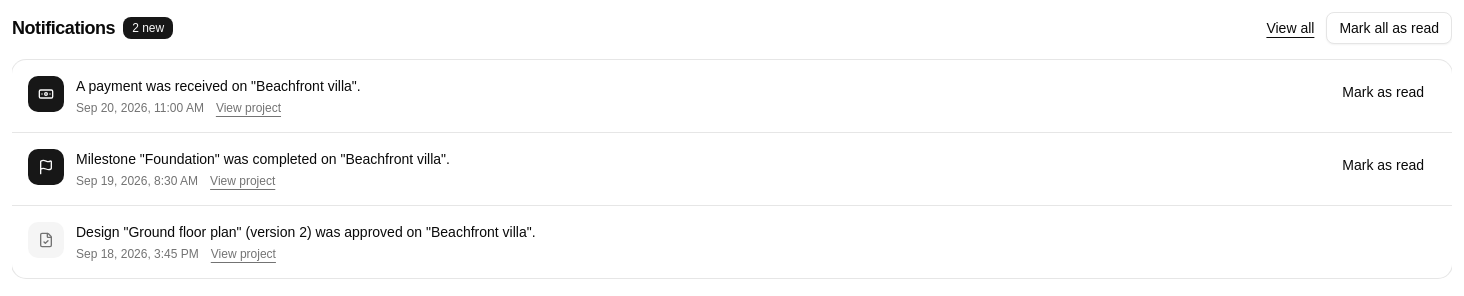
Test case: NotificationsPanel › marking read › marks them all read, and the badge and the button go
Click the button "Mark all as read". click: (1389, 28)
box: [1326, 12, 1452, 44]
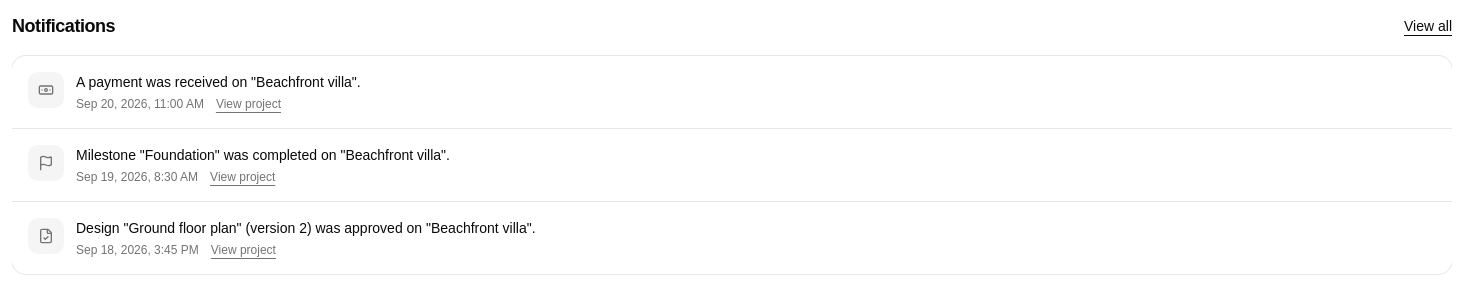
Expected: the number of list items is 3, [12, 56, 1452, 129]; [12, 129, 1452, 202]; [28, 218, 536, 257]
Expected: the button "Mark all as read" is gone
